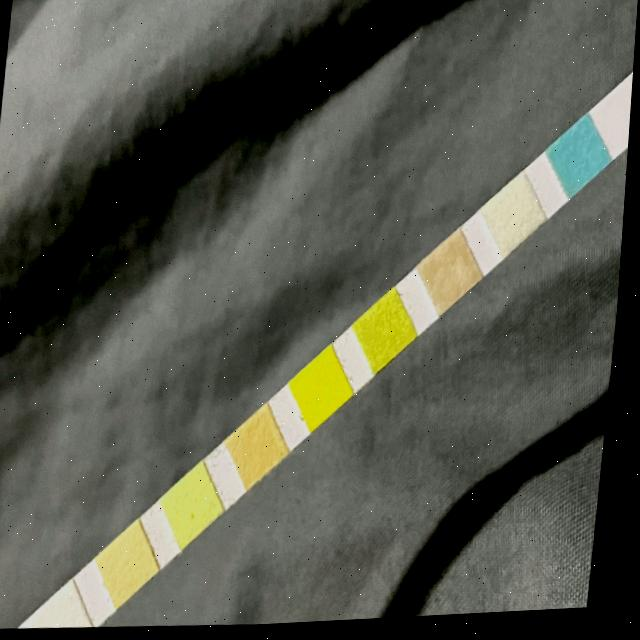Bilirubin: (499, 195, 534, 245)
Blood: (310, 367, 343, 419)
Glucose: (566, 138, 598, 185)
Ketone: (437, 251, 470, 302)
Nitrite: (53, 601, 86, 629)
Protein: (181, 484, 215, 534)
SpGravity: (373, 310, 406, 356)
Urobilinogen: (118, 542, 151, 593)
pH: (246, 427, 278, 475)
